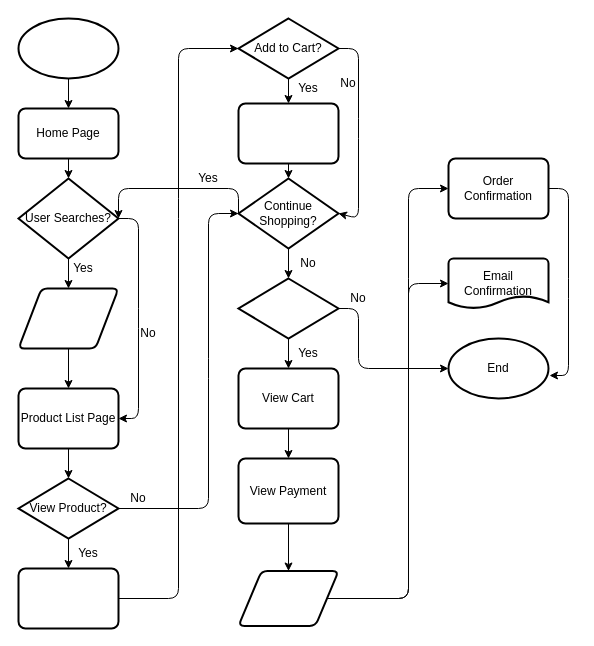
Some shapes in this 594 by 646 pixel diagram are drawn without their labels. The centre of each missing label's shape, as x and y in pixels:
Checkout?: the point at 288,308
Confirmation Page: the point at 288,133
Payment Info: the point at 288,598
Product Webpage: the point at 68,598
Search Input: the point at 68,318
Start: the point at 68,48
